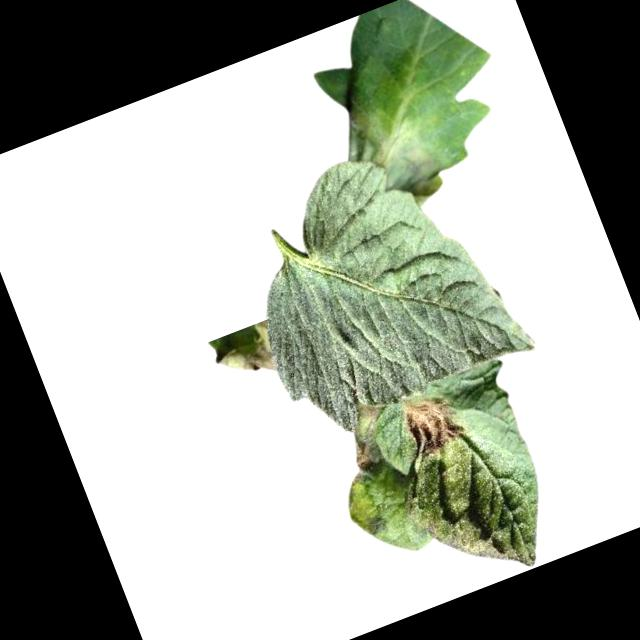Late_blight: (329, 80, 453, 224), (390, 385, 472, 463), (207, 317, 280, 387), (340, 437, 387, 489)
healthy: (216, 124, 540, 448)
